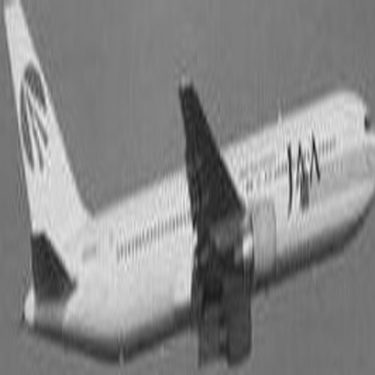airplane: (2, 5, 368, 368)
